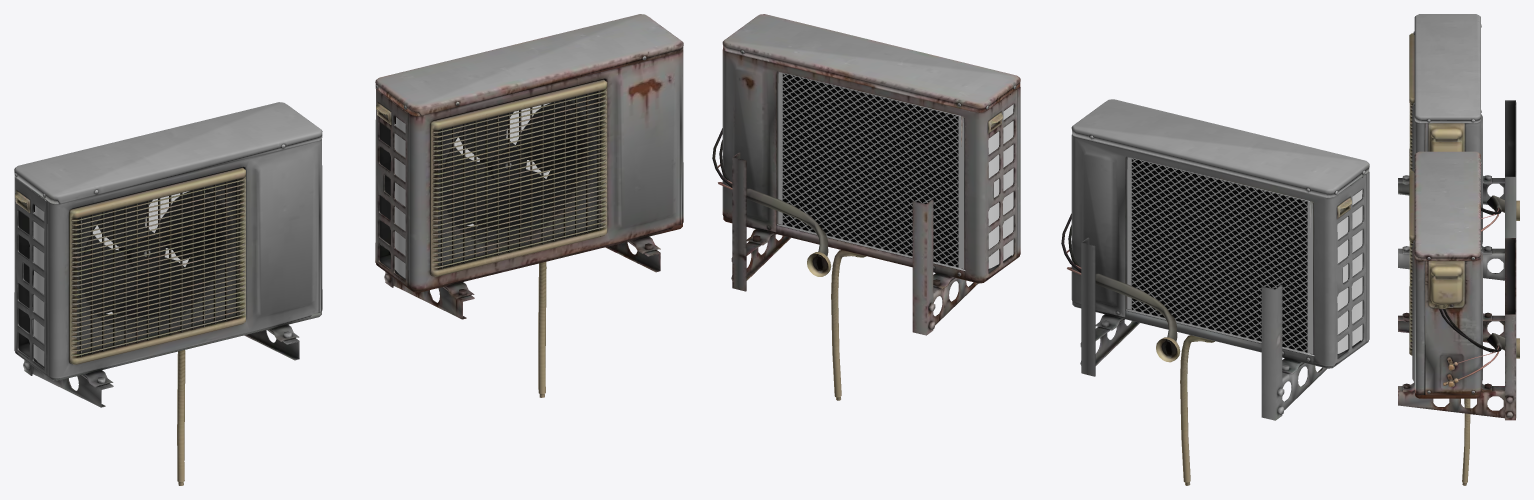
File: exterior_aircon_unit.glb
3 views of the same model, side by side, from view 1: azimuth 30°, elevation 25°; view 2: azimuth 150°, elevation 25°; view 3: azimuth 270°, elevation 25° (orthographic). The views are drawn at different scales.
Parts seen in each view (by area): view 1: exterior_aircon_unit, exterior_aircon_unit_rusted; view 2: exterior_aircon_unit, exterior_aircon_unit_rusted; view 3: exterior_aircon_unit_rusted, exterior_aircon_unit.
Part boxes in pixels (x1,y1,x2,y2): exterior_aircon_unit: (14,102,322,485); exterior_aircon_unit_rusted: (375,14,683,397); exterior_aircon_unit: (1061,99,1369,485); exterior_aircon_unit_rusted: (712,14,1020,400); exterior_aircon_unit_rusted: (1398,151,1519,485); exterior_aircon_unit: (1398,14,1519,280).
Size of the model in its own units: 1.8 by 0.9279 by 0.3742.
4 materials, 4 textured.
